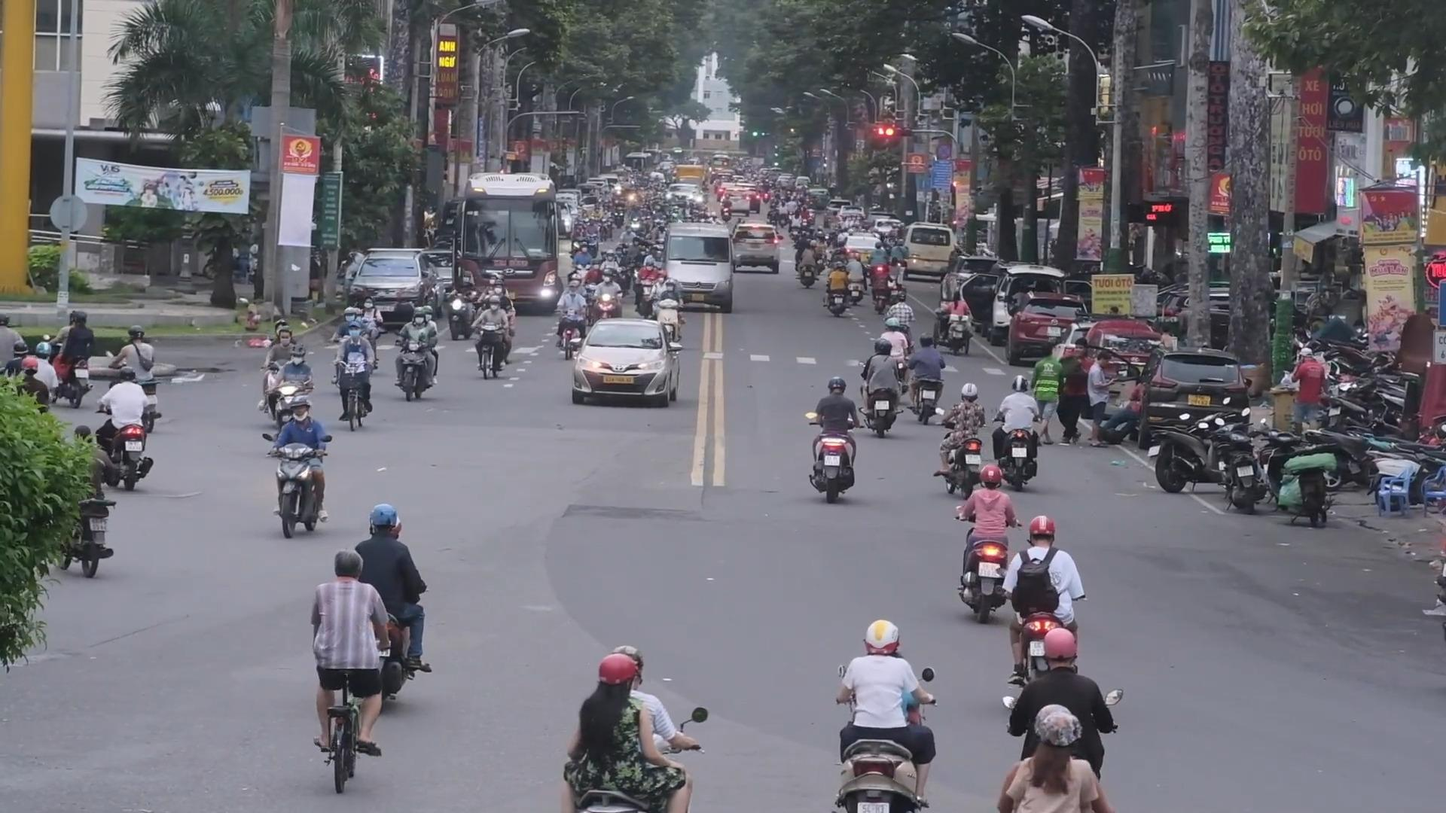bicyclist: (310, 549, 392, 793), (332, 321, 375, 432)
driver: (561, 645, 709, 813), (833, 619, 938, 813), (996, 515, 1088, 688), (952, 463, 1023, 624), (263, 395, 333, 539), (808, 377, 866, 505), (95, 366, 153, 491), (934, 383, 990, 500), (992, 375, 1045, 492), (105, 325, 161, 433), (43, 310, 96, 409), (858, 337, 904, 438), (393, 305, 438, 402), (904, 333, 946, 426), (470, 295, 511, 380), (654, 279, 684, 347)
helmet: (1040, 711, 1083, 756), (599, 654, 639, 698), (1043, 628, 1077, 670), (863, 619, 901, 656), (1027, 515, 1055, 546), (369, 504, 397, 535), (979, 464, 1002, 489), (290, 395, 310, 422), (960, 382, 979, 403), (827, 376, 847, 395), (21, 357, 38, 376), (290, 346, 306, 366), (1011, 375, 1028, 393), (127, 325, 145, 342), (874, 338, 892, 354), (118, 367, 136, 383), (36, 341, 51, 360), (13, 340, 29, 357), (413, 307, 425, 326), (920, 333, 934, 347), (885, 318, 900, 331)
no-helmet: (334, 550, 364, 581), (348, 321, 362, 339)
